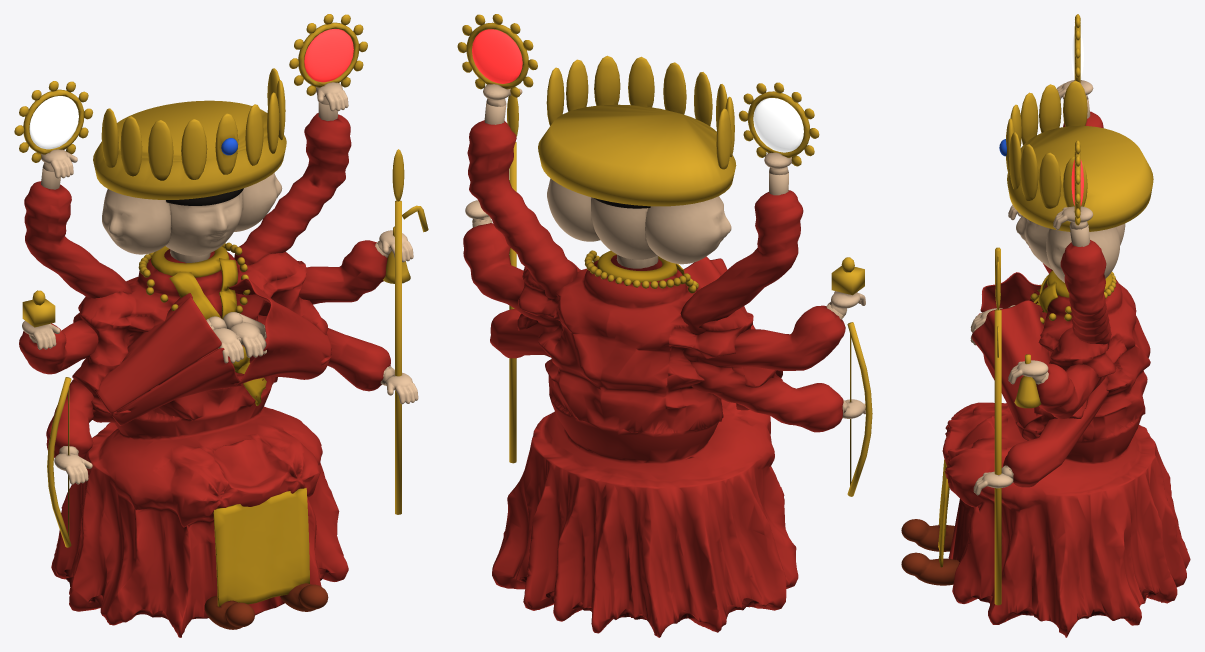
Rendered from doumu.glb.
3 renders of one model, left to right at view 1: azimuth 30°, elevation 25°; view 2: azimuth 150°, elevation 25°; view 3: azimuth 270°, elevation 25°, orthographic. The views are drawn at different scales.
Parts seen in each view (by area): view 1: DM_Robe, DM_ExtraSleeves, DM_Crown, DM_Attributes, DM_SleeveL, DM_Apron, DM_SleeveR, DM_SideFace-1, DM_HeadMesh, DM_Lapel, DM_Boots, DM_MoonDisk (+12 smaller); view 2: DM_Robe, DM_ExtraSleeves, DM_Crown, DM_Attributes, DM_SideFace-1, DM_HeadMesh, DM_SunDisk, DM_MoonDisk, DM_SideFace1, DM_Forearms, DM_Collar, DM_Necklace (+1 smaller); view 3: DM_Robe, DM_Crown, DM_ExtraSleeves, DM_SleeveR, DM_Attributes, DM_Boots, DM_SideFace1, DM_SleeveL, DM_HeadMesh, DM_Forearms, DM_Apron, DM_Hand_bell (+3 smaller).
Boxes of the visible parts, x1,y1,x2,y2 form: DM_Robe: (51,249,348,637); DM_ExtraSleeves: (19,113,390,458); DM_Crown: (93,68,286,199); DM_Attributes: (14,14,428,547); DM_SleeveL: (94,293,241,425); DM_Apron: (213,488,309,606); DM_SleeveR: (229,278,331,385); DM_SideFace-1: (102,189,171,254); DM_HeadMesh: (165,191,242,256); DM_Lapel: (169,258,266,405); DM_Boots: (204,583,328,629); DM_MoonDisk: (29,96,78,149); DM_Robe: (492,255,798,637); DM_ExtraSleeves: (463,120,845,432); DM_Crown: (538,55,736,206); DM_Attributes: (457,14,872,496); DM_SideFace-1: (645,196,731,264); DM_HeadMesh: (591,197,657,259); DM_SunDisk: (472,29,522,83); DM_MoonDisk: (753,98,803,152); DM_SideFace1: (547,178,600,241); DM_Forearms: (472,98,847,418); DM_Collar: (597,250,677,282); DM_Necklace: (584,250,698,293); DM_Robe: (942,279,1190,637); DM_Crown: (1006,80,1153,231); DM_ExtraSleeves: (1003,111,1111,487); DM_SleeveR: (971,300,1052,440); DM_Attributes: (994,14,1080,605); DM_Boots: (901,519,959,585); DM_SideFace1: (1046,227,1119,282); DM_SleeveL: (972,272,1044,332); DM_HeadMesh: (1016,215,1125,269); DM_Forearms: (1001,95,1090,482); DM_Apron: (938,459,949,567); DM_Hand_bell: (1008,360,1048,384).
Size of the model in its own units: 1.68 by 2.22 by 1.16.
